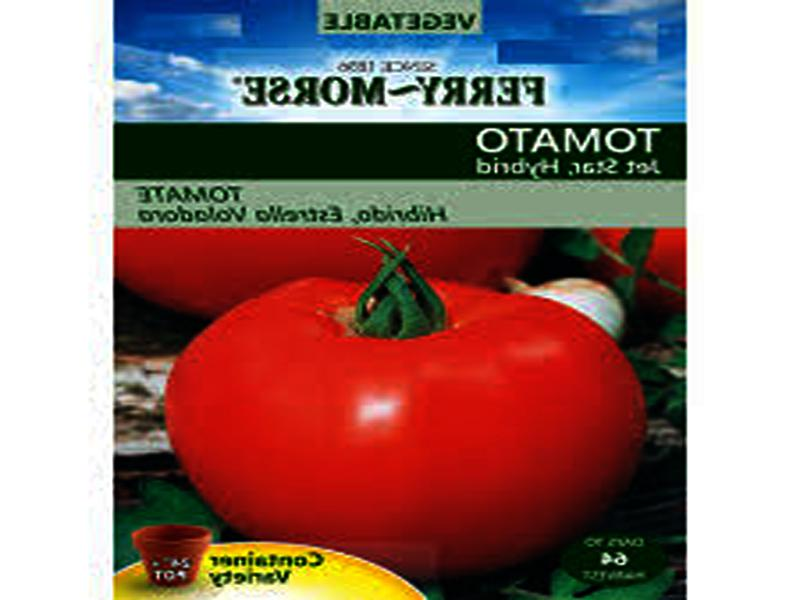Tomato: (170, 277, 646, 579)
